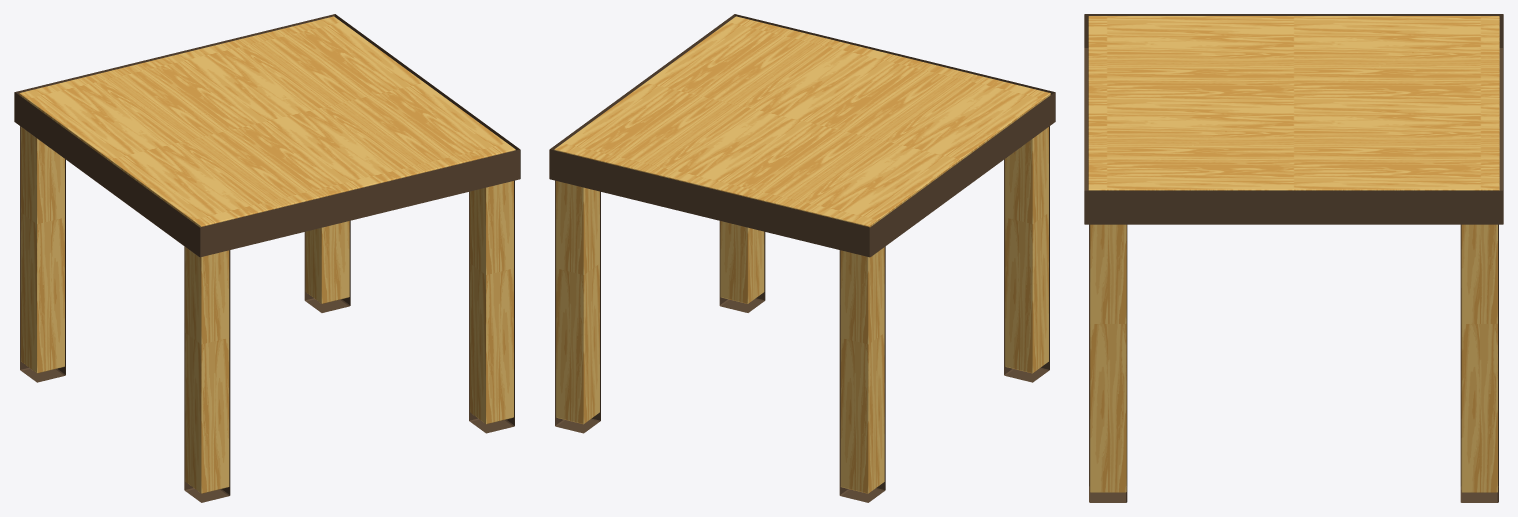
File: LACK.glb
3 renders of one model, left to right at view 1: azimuth 30°, elevation 25°; view 2: azimuth 150°, elevation 25°; view 3: azimuth 270°, elevation 25°, orthographic. The views are drawn at different scales.
Visible parts, largest first — view 1: whole_tableTop, whole_tableTop__outline, whole_leg_3_screw115980_3, whole_leg_2_screw115980_2, whole_leg_4_screw115980_4, whole_leg_1_screw115980_1, whole_leg_3_screw115980_3__outline, whole_leg_2_screw115980_2__outline, whole_leg_4_screw115980_4__outline, whole_leg_1_screw115980_1__outline; view 2: whole_tableTop, whole_tableTop__outline, whole_leg_4_screw115980_4, whole_leg_1_screw115980_1, whole_leg_3_screw115980_3, whole_leg_2_screw115980_2, whole_leg_4_screw115980_4__outline, whole_leg_1_screw115980_1__outline, whole_leg_3_screw115980_3__outline, whole_leg_2_screw115980_2__outline; view 3: whole_tableTop, whole_tableTop__outline, whole_leg_1_screw115980_1, whole_leg_2_screw115980_2, whole_leg_1_screw115980_1__outline, whole_leg_2_screw115980_2__outline.
Part boxes in pixels (box(x1,y1,x2,y2)): whole_tableTop: box(19, 16, 515, 227); whole_tableTop__outline: box(14, 14, 520, 257); whole_leg_3_screw115980_3: box(185, 247, 229, 493); whole_leg_2_screw115980_2: box(470, 181, 513, 424); whole_leg_4_screw115980_4: box(21, 127, 64, 373); whole_leg_1_screw115980_1: box(305, 221, 349, 303); whole_leg_3_screw115980_3__outline: box(184, 246, 230, 502); whole_leg_2_screw115980_2__outline: box(469, 180, 514, 433); whole_leg_4_screw115980_4__outline: box(20, 126, 65, 382); whole_leg_1_screw115980_1__outline: box(304, 220, 350, 312); whole_tableTop: box(554, 16, 1050, 227); whole_tableTop__outline: box(549, 14, 1055, 257); whole_leg_4_screw115980_4: box(840, 247, 884, 493); whole_leg_1_screw115980_1: box(556, 181, 599, 424); whole_leg_3_screw115980_3: box(1005, 127, 1048, 373); whole_leg_2_screw115980_2: box(720, 221, 764, 303); whole_leg_4_screw115980_4__outline: box(839, 246, 885, 502); whole_leg_1_screw115980_1__outline: box(555, 180, 600, 433); whole_leg_3_screw115980_3__outline: box(1004, 126, 1049, 382); whole_leg_2_screw115980_2__outline: box(719, 221, 765, 312); whole_tableTop: box(1088, 16, 1499, 190); whole_tableTop__outline: box(1084, 14, 1503, 224); whole_leg_1_screw115980_1: box(1461, 224, 1497, 492); whole_leg_2_screw115980_2: box(1090, 224, 1126, 492); whole_leg_1_screw115980_1__outline: box(1460, 224, 1498, 502); whole_leg_2_screw115980_2__outline: box(1089, 224, 1127, 502).
Bounding box in the file's own units: 0.561 × 0.4642 × 0.561.
5 materials, 3 textured.
